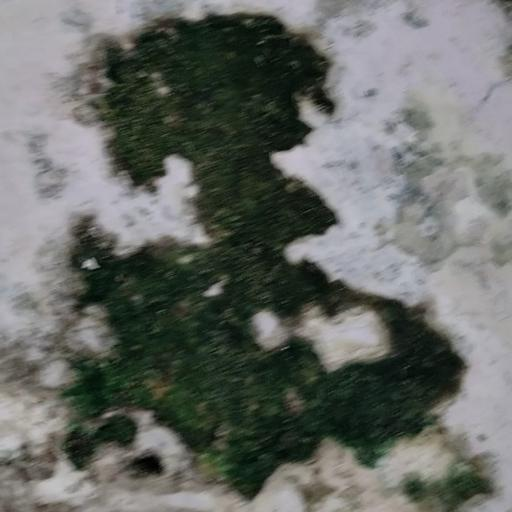algae: (73, 22, 467, 444)
